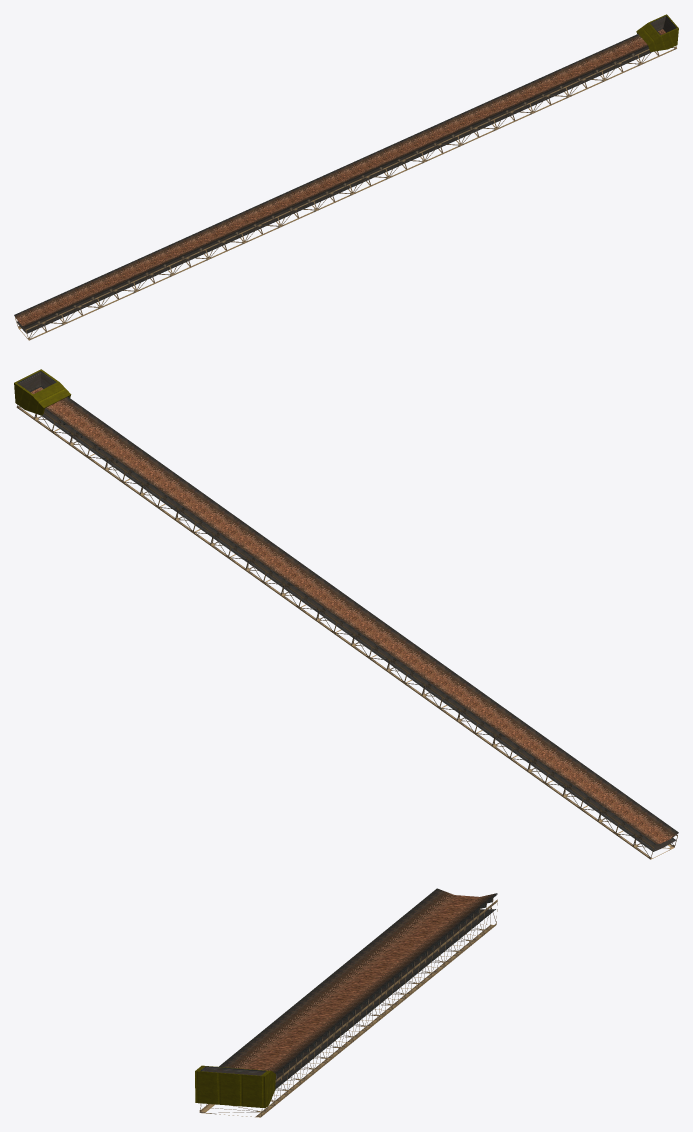
File: des_bigquaryconv02.obj
3 renders of one model, top to bottom at view 1: azimuth 30°, elevation 25°; view 2: azimuth 150°, elevation 25°; view 3: azimuth 270°, elevation 25°, orthographic. The views are drawn at different scales.
Parts seen in each view (by area): view 1: des_bigquaryconv02; view 2: des_bigquaryconv02; view 3: des_bigquaryconv02.
Boxes of the visible parts, x1,y1,x2,y2 form: des_bigquaryconv02: (14, 14, 678, 340); des_bigquaryconv02: (14, 369, 678, 859); des_bigquaryconv02: (195, 888, 497, 1117).
Bounding box in the file's own units: 45.99 × 15.58 × 10.08.
4 materials, 4 textured.
